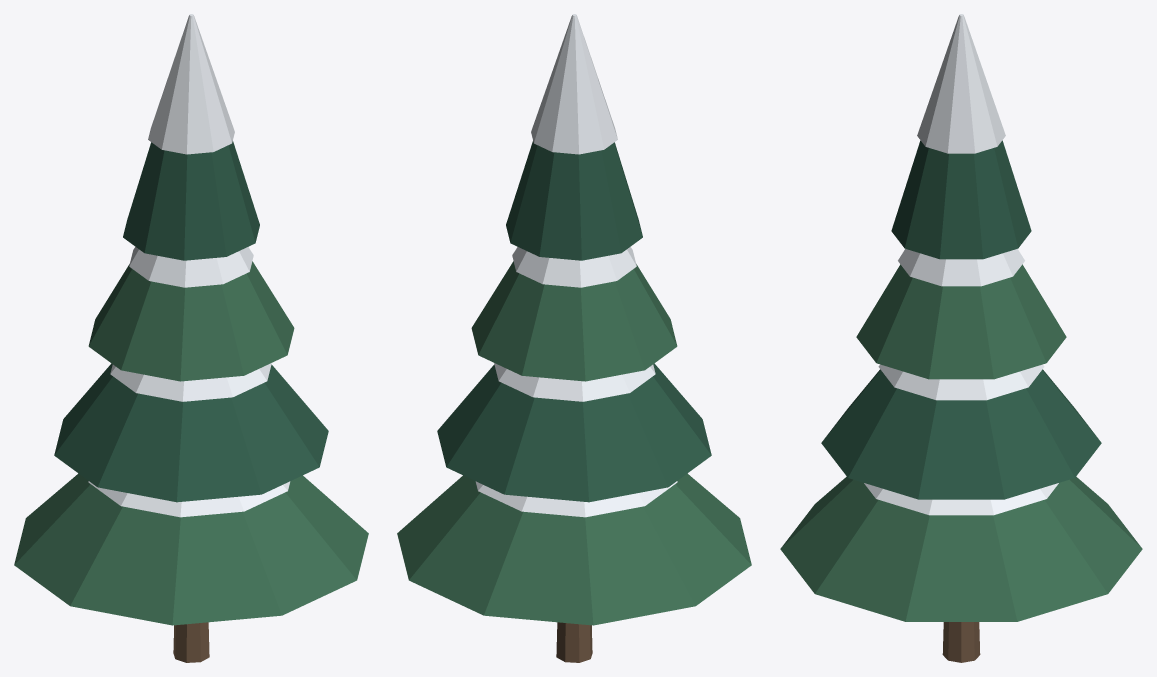
File: PineModel.glb
The picture shows the model from 3 angles, left to right: view 1: azimuth 30°, elevation 25°; view 2: azimuth 150°, elevation 25°; view 3: azimuth 270°, elevation 25°; orthographic projection.
Visible parts, largest first — view 1: PineModel; view 2: PineModel; view 3: PineModel.
Boxes of the visible parts, x1,y1,x2,y2 form: PineModel: (14,14,368,662); PineModel: (397,14,751,662); PineModel: (780,14,1142,662).
Bounding box in the file's own units: 2.95 × 6.04 × 3.1.
